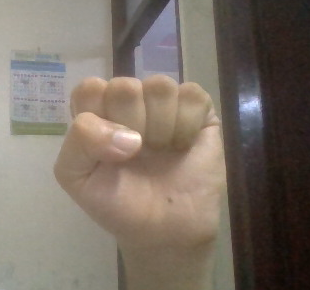click: (48, 69, 244, 261)
